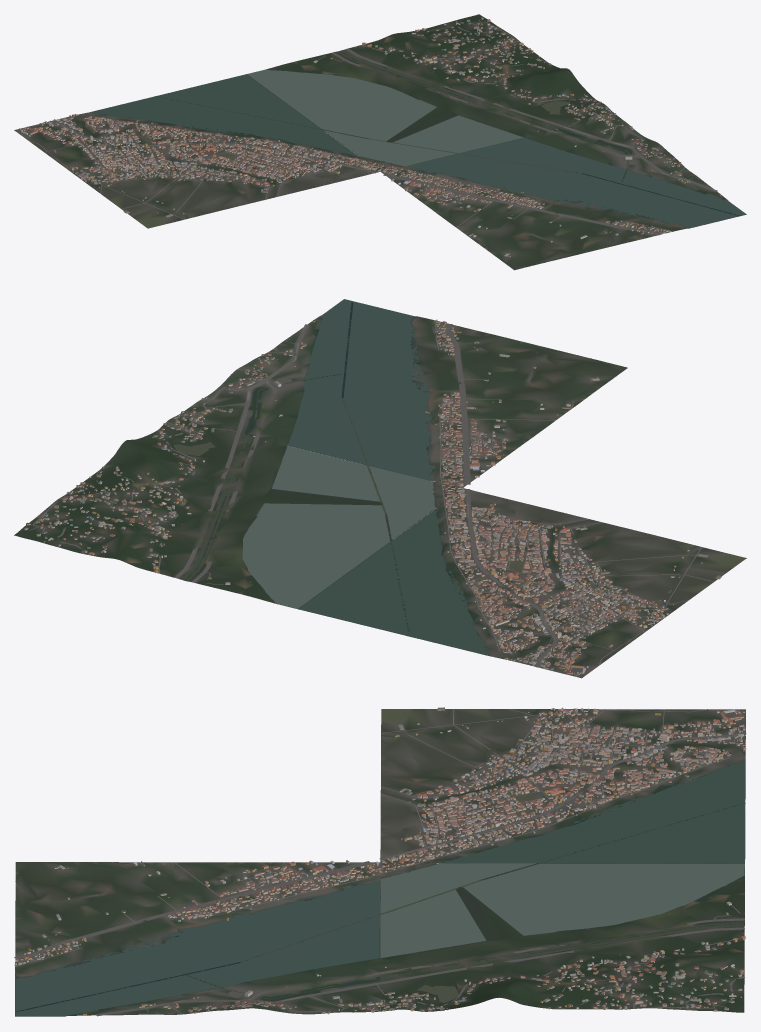
The picture shows the model from 3 angles, top to bottom: view 1: azimuth 30°, elevation 25°; view 2: azimuth 150°, elevation 25°; view 3: azimuth 270°, elevation 25°; orthographic projection. The views are drawn at different scales.
Visible parts, largest first — view 1: ground, water, buildings, roads; view 2: ground, water, buildings, roads; view 3: ground, water, buildings, roads.
Part boxes in pixels (box(x1,y1,x2,y2)): ground: box(14, 14, 746, 270); water: box(90, 50, 746, 228); buildings: box(19, 17, 720, 257); roads: box(28, 19, 717, 244); ground: box(14, 301, 746, 678); water: box(173, 299, 490, 655); buildings: box(24, 319, 721, 676); roads: box(29, 320, 713, 667); ground: box(15, 709, 745, 1016); water: box(15, 759, 745, 1016); buildings: box(14, 707, 746, 1015); roads: box(14, 709, 746, 1016).
Bounding box in the file's own units: 2811 × 86.15 × 2817.
